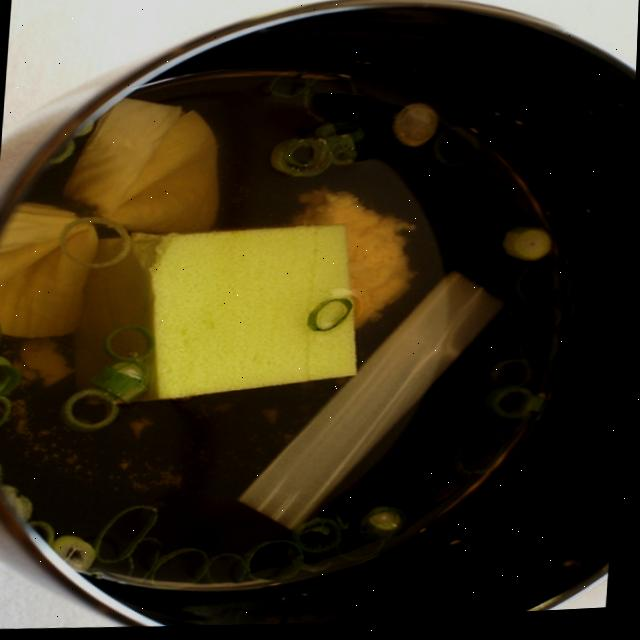汤锅炖物: (0, 0, 636, 640)
